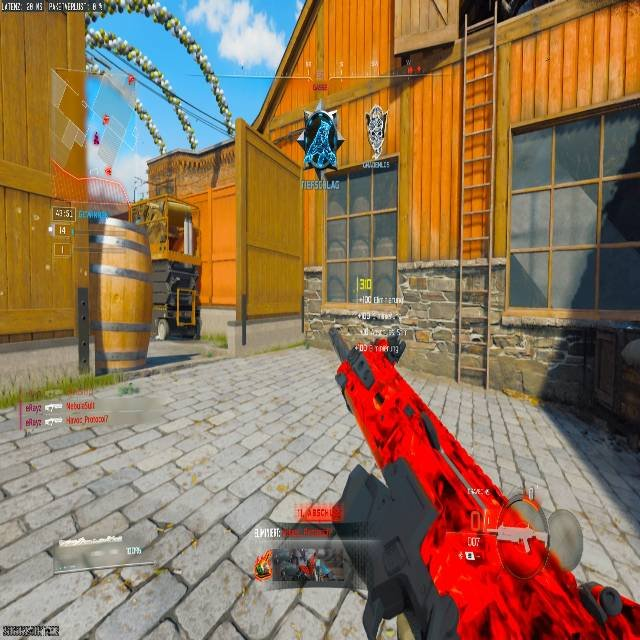player: (296, 107, 344, 181), (364, 107, 390, 156)
